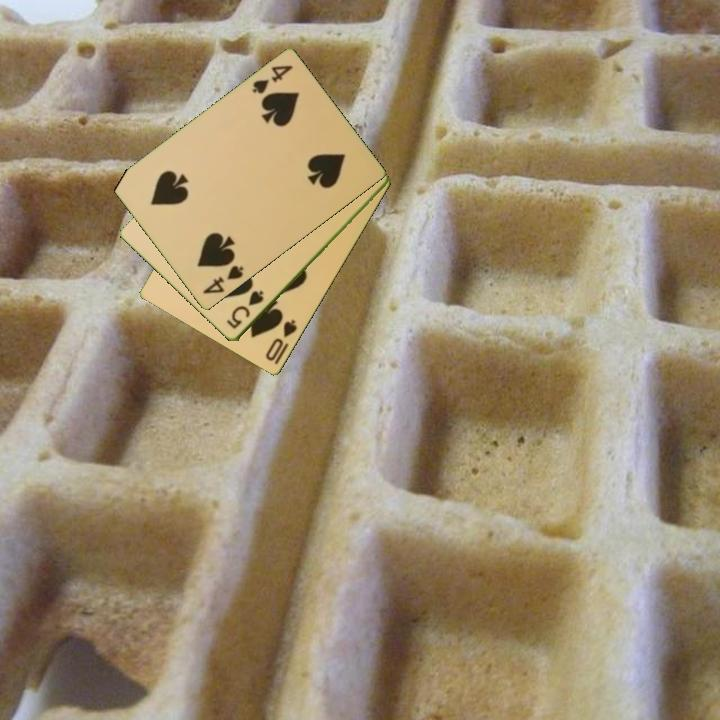10s: (262, 316, 300, 364)
4s: (199, 262, 247, 297), (249, 62, 296, 97)
5s: (223, 287, 267, 332)
